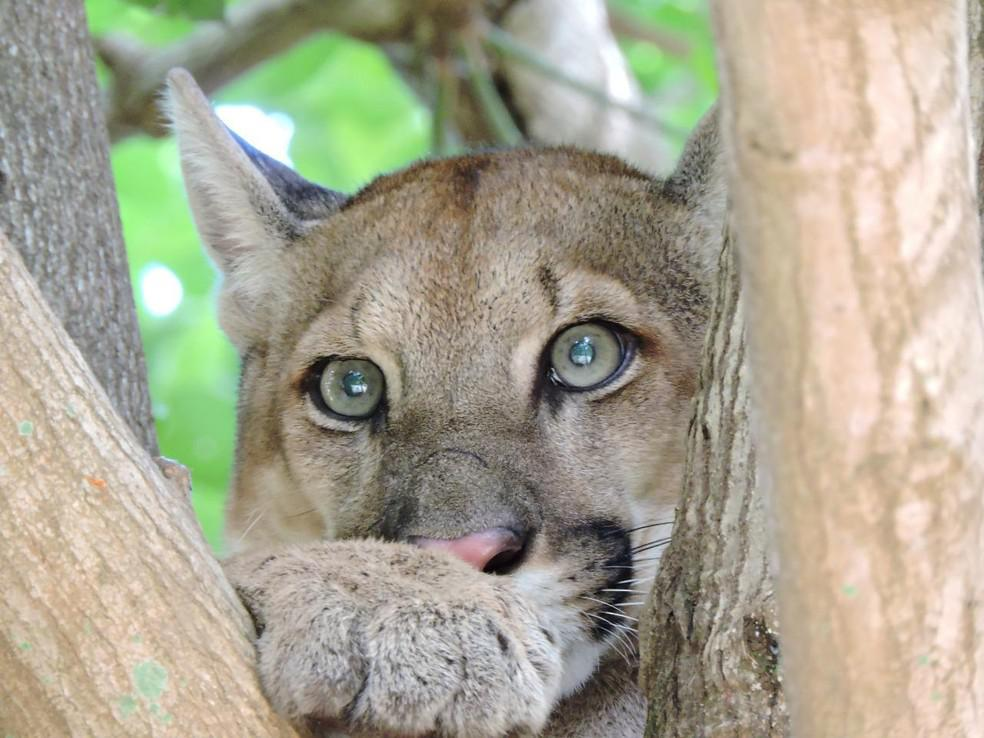OncaParda: (140, 49, 736, 738)
